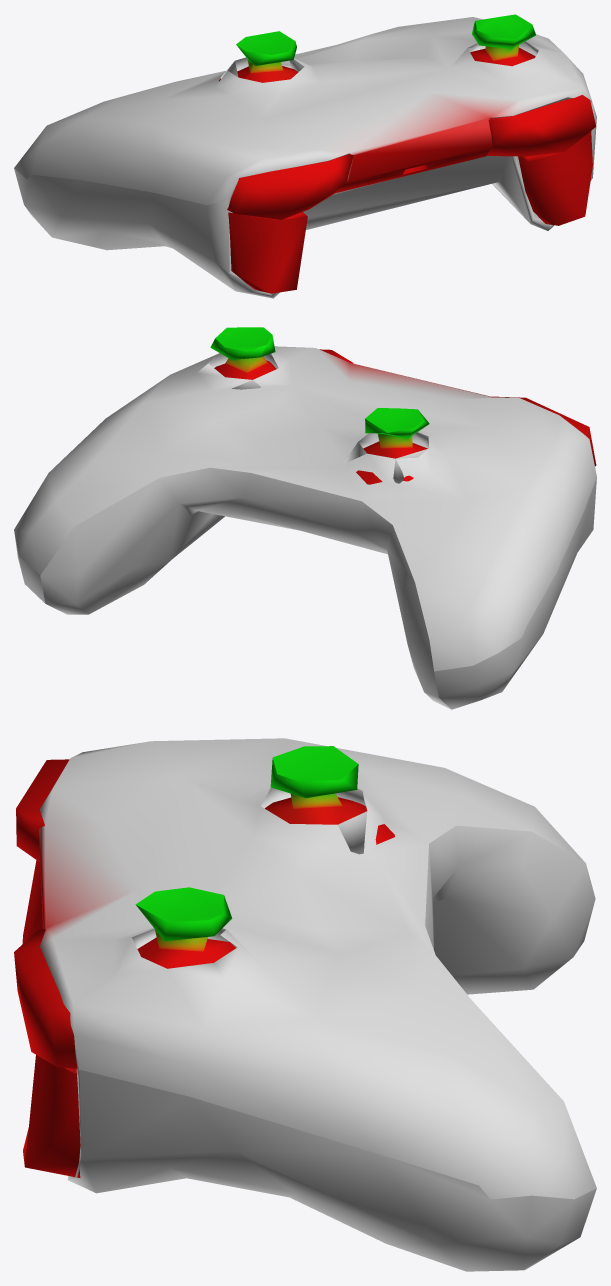
Rendered from gamepad_xbo_LOD3.fbx.
3 renders of one model, top to bottom at view 1: azimuth 30°, elevation 25°; view 2: azimuth 150°, elevation 25°; view 3: azimuth 270°, elevation 25°, orthographic. The views are drawn at different scales.
Parts seen in each view (by area): view 1: LOD3; view 2: LOD3; view 3: LOD3.
Part boxes in pixels (x1,y1,x2,y2): LOD3: (14, 14, 596, 298); LOD3: (14, 327, 596, 709); LOD3: (14, 738, 596, 1271).
Size of the model in its own units: 15.06 by 6.09 by 10.13.
